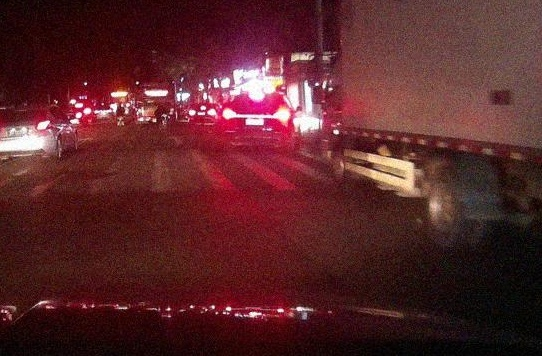L_light: (222, 109, 237, 119)
R_light: (274, 109, 290, 120)
T_light: (249, 93, 264, 100)
night-right: (220, 91, 292, 150)
